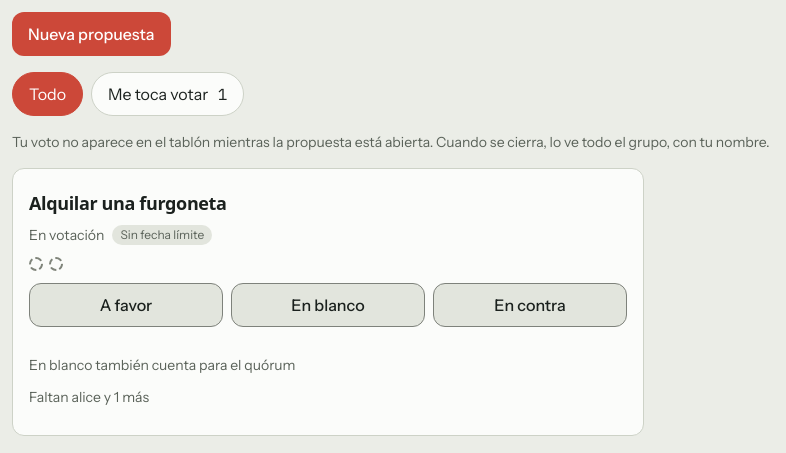
it: BoardPage, el momento de votar › dice qué se votó, no solo que se votó
What coordinates should you click on to do the following:
click the button "En blanco"
I would click on:
 (328, 305)
Its box is 231,283 -> 425,327.
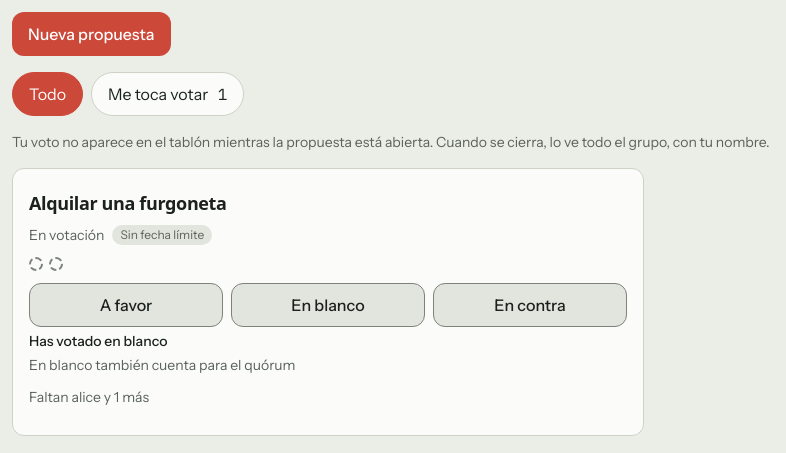
Check: the message reads "Has votado en blanco", box 29,332 -> 168,350
What coordinates should you click on to do the following:
click the button "En contra"
I would click on:
 (530, 305)
Its box is 433,283 -> 627,327.
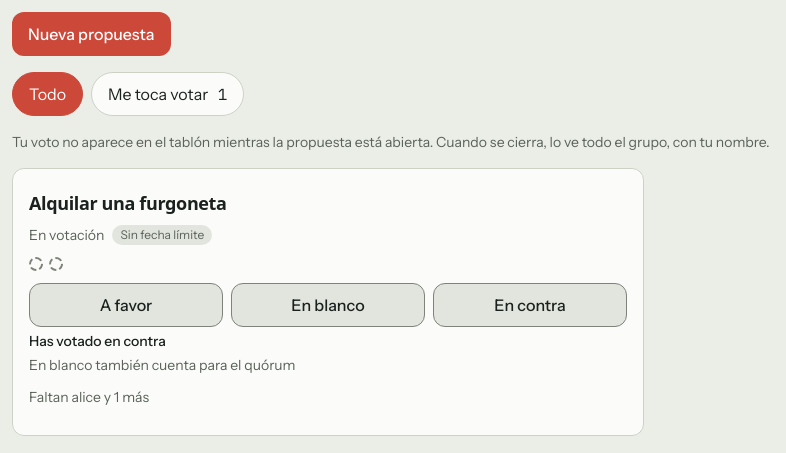
Check: the message reads "Has votado en contra", box 29,332 -> 166,350
